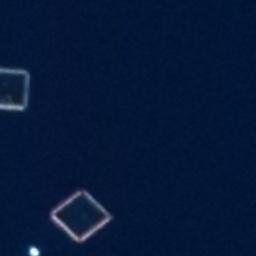square_solid: (46, 184, 115, 243), (1, 60, 32, 116)
